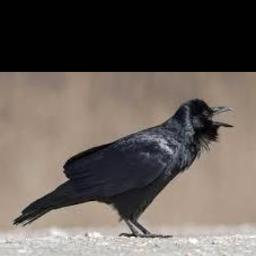Crow: (14, 98, 235, 238)
